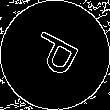P_SE: (24, 27, 86, 83)
